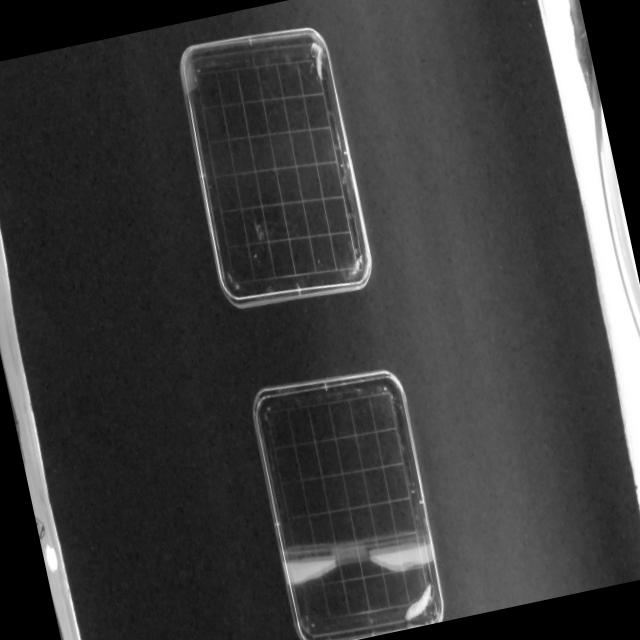larva: (398, 582, 439, 622), (308, 39, 328, 80)
